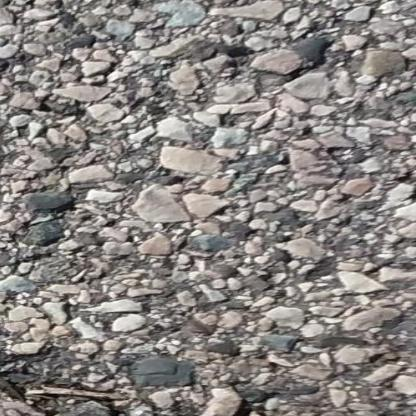Cracks: (0, 351, 316, 416)
